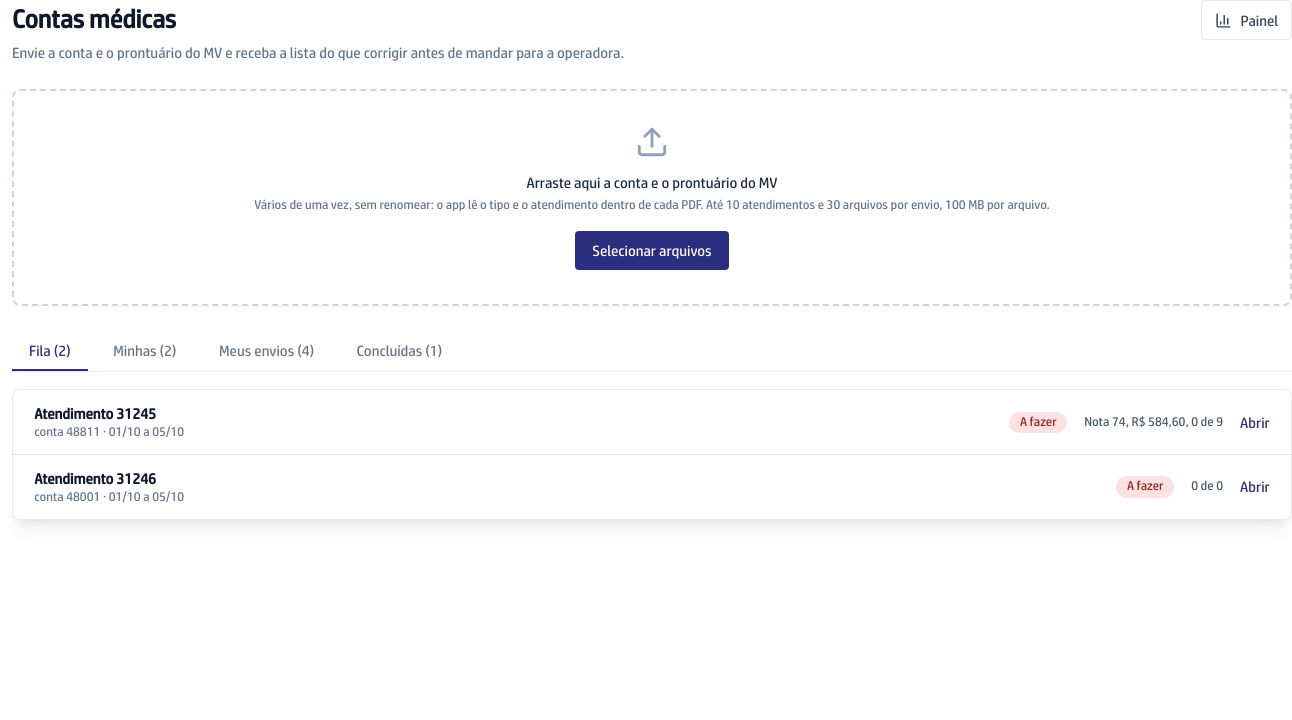
Test case: a fila comum › Minhas mostra as que a faturista puxou, com Continuar
Expected: the 1st list item is shown, [13,390,1291,455]
Click the tab "Minhas (2)".
click(145, 351)  # box [96,331,194,371]
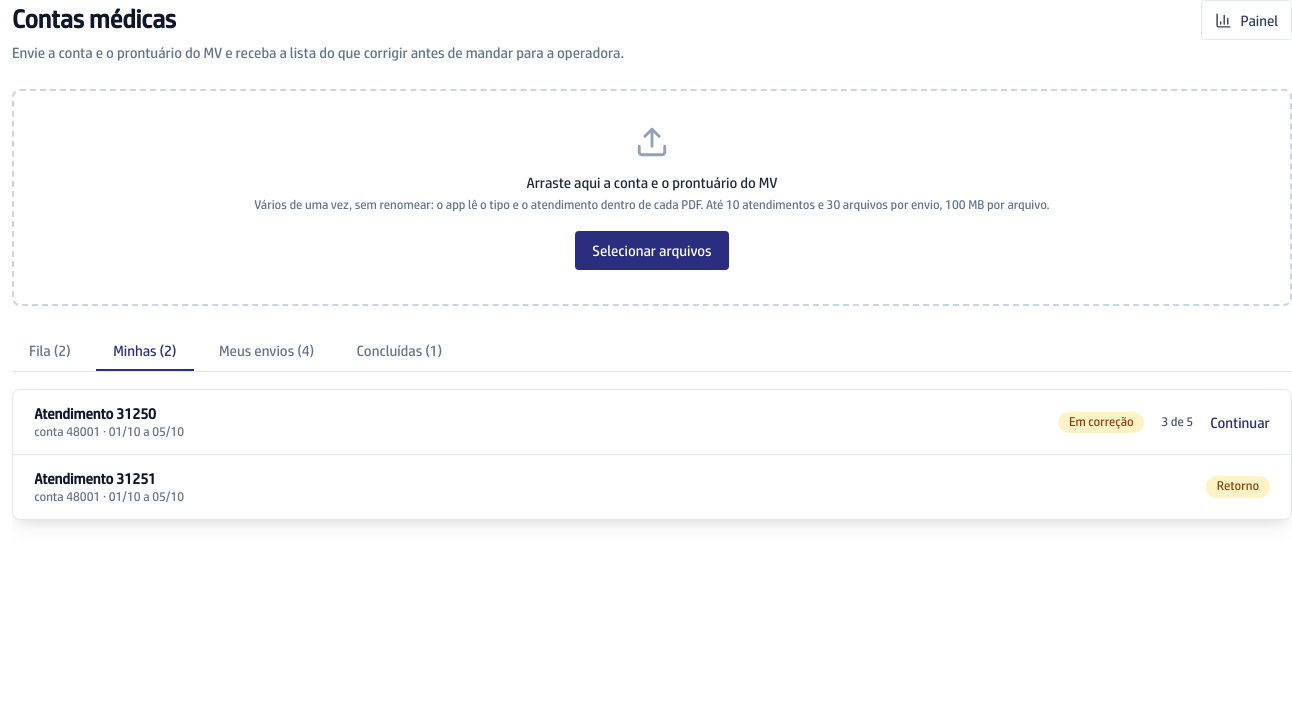
Expected: the 1st list item is shown, [13,390,1291,455]
Expected: the list item "Atendimento 31251 conta 48001 · 01/10 a 05/10 Retorno" is shown, [34,470,1270,504]
